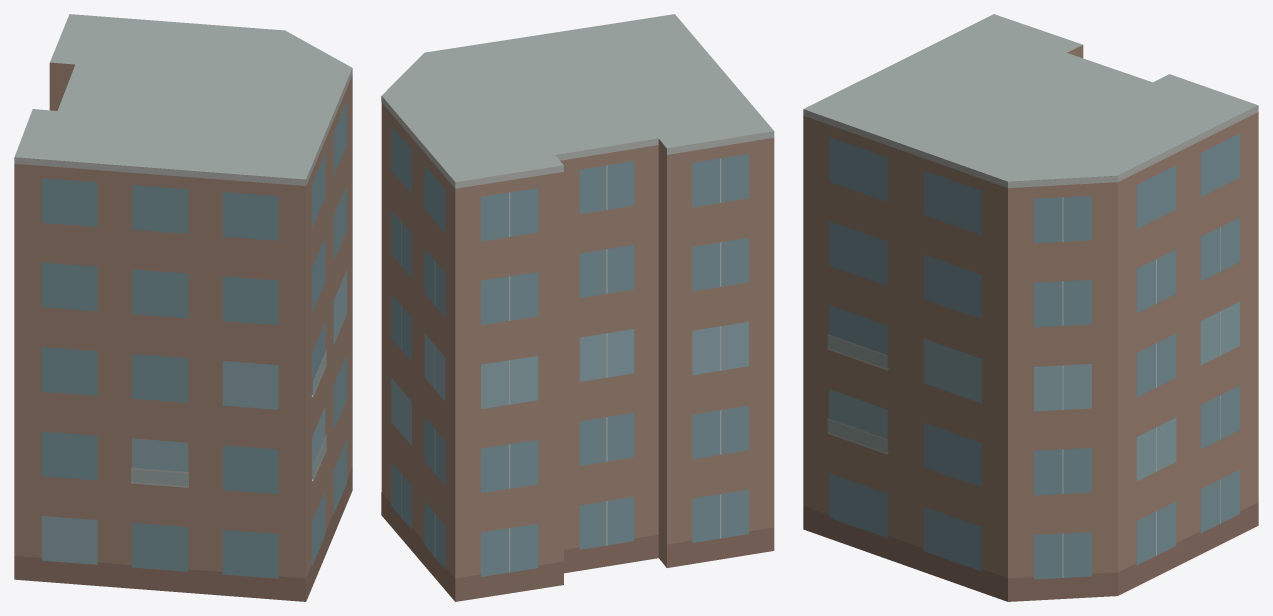
File: survey-upis-32663531.glb
3 views of the same model, side by side, from view 1: azimuth 30°, elevation 25°; view 2: azimuth 150°, elevation 25°; view 3: azimuth 270°, elevation 25° (orthographic).
Visible parts, largest first — view 1: survey-upis-32663531.tmp; view 2: survey-upis-32663531.tmp; view 3: survey-upis-32663531.tmp.
Part boxes in pixels (bbox=[...]): survey-upis-32663531.tmp: bbox=[14, 14, 352, 601]; survey-upis-32663531.tmp: bbox=[381, 14, 774, 601]; survey-upis-32663531.tmp: bbox=[803, 14, 1258, 601].
Size of the model in its own units: 13.53 by 15.8 by 15.52.
